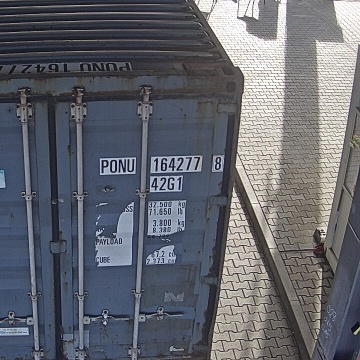serial_id: (101, 157, 222, 173)
